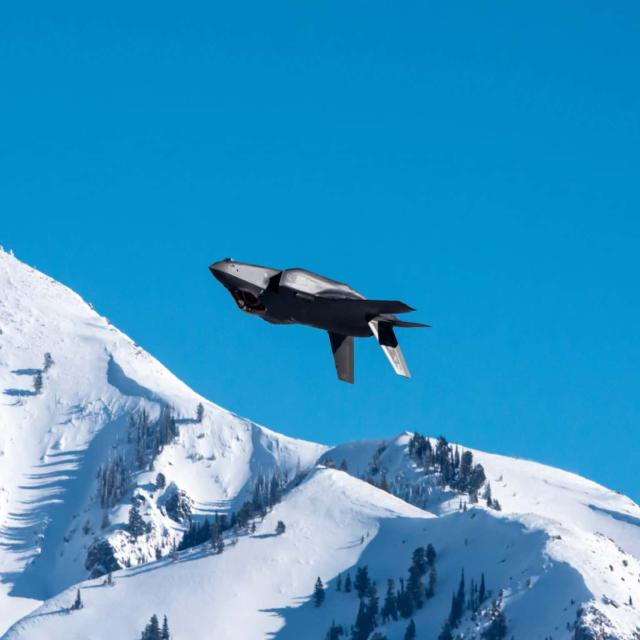MIL_Plane: (208, 258, 434, 384)
